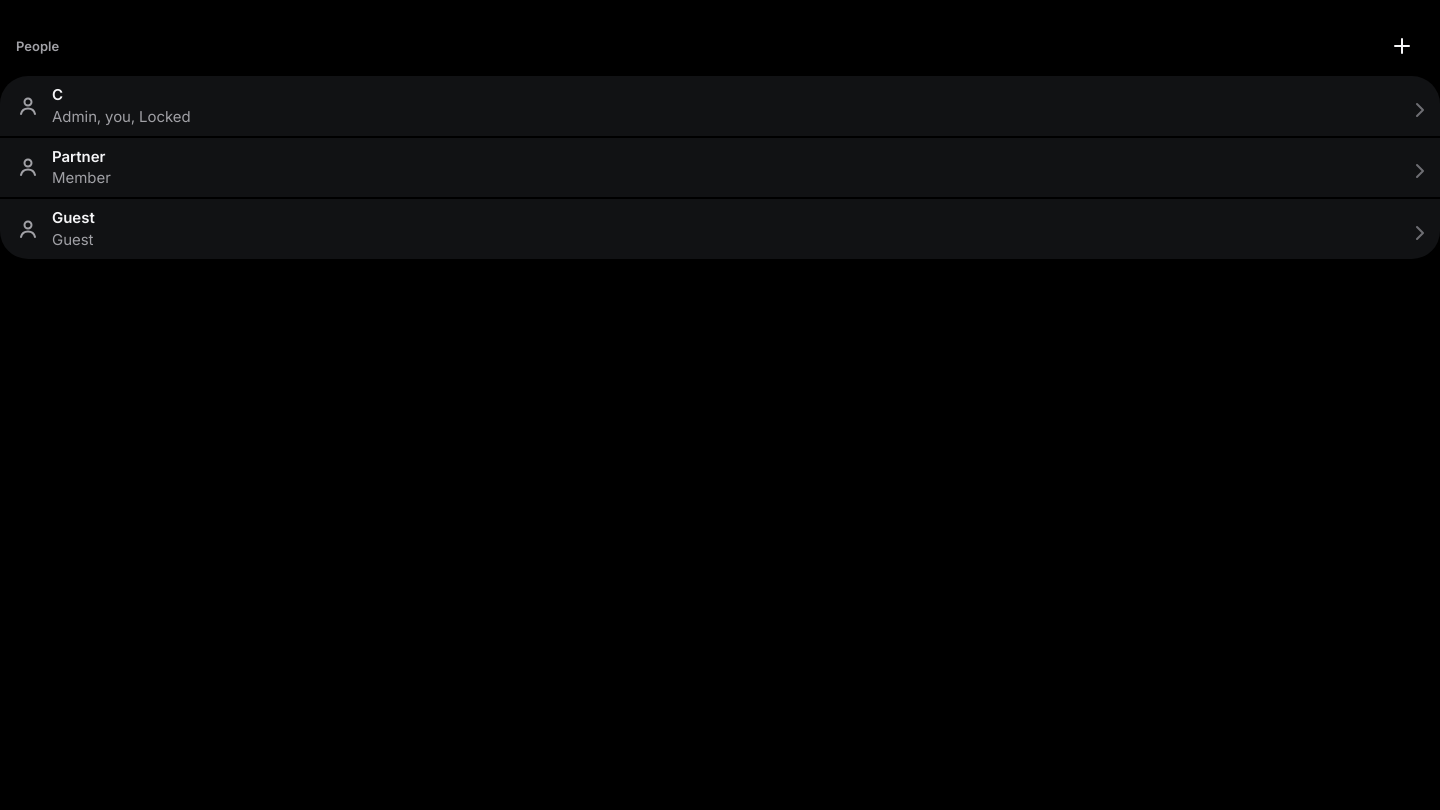
Test: Users: Unlock › lets an admin who is still signed in unlock their own account
This screenshot has width=1440, height=810.
Click the button "C Admin, you, Locked". click: point(121, 116)
box: [0, 76, 1439, 136]
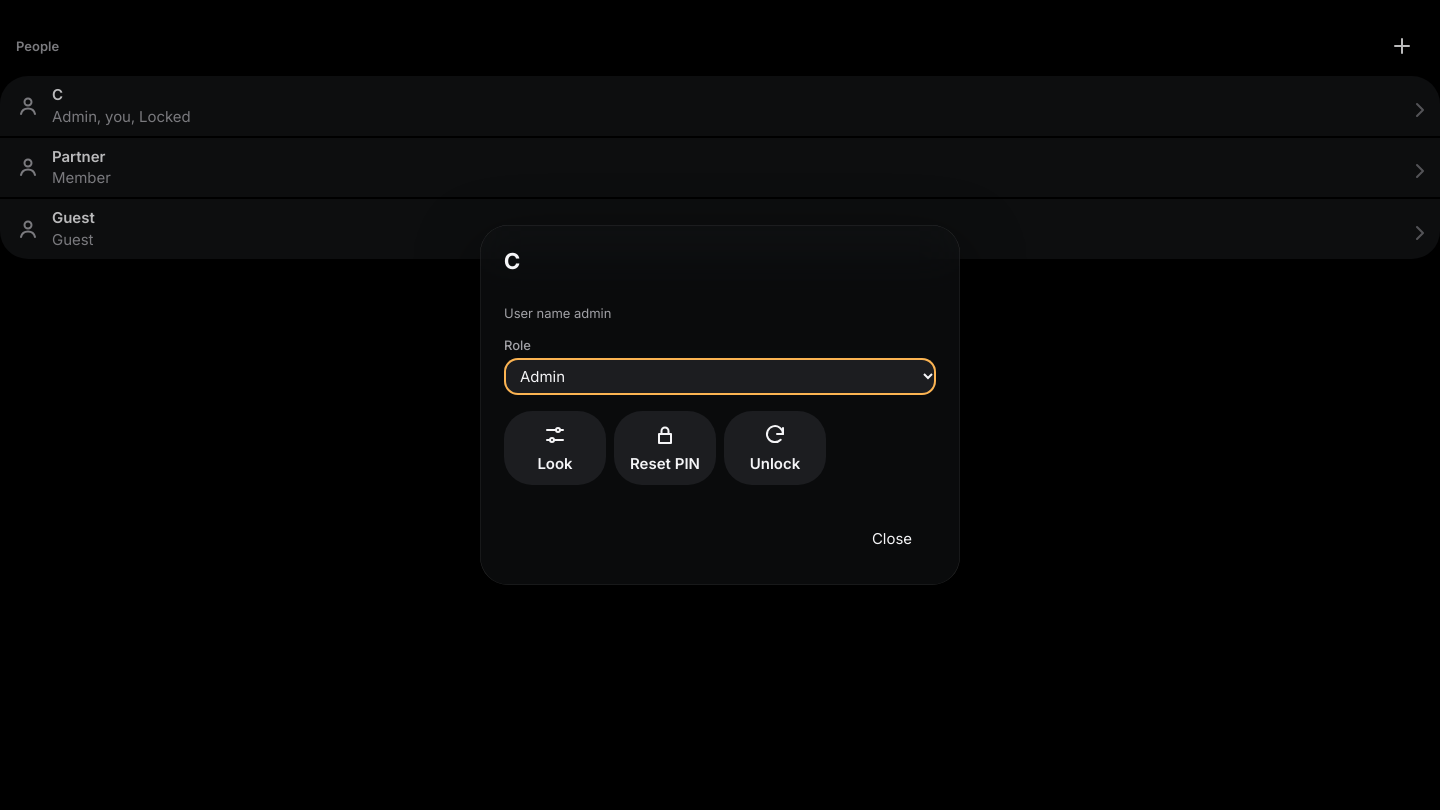
Check: the button "Unlock" is shown, box [724, 411, 826, 485]
